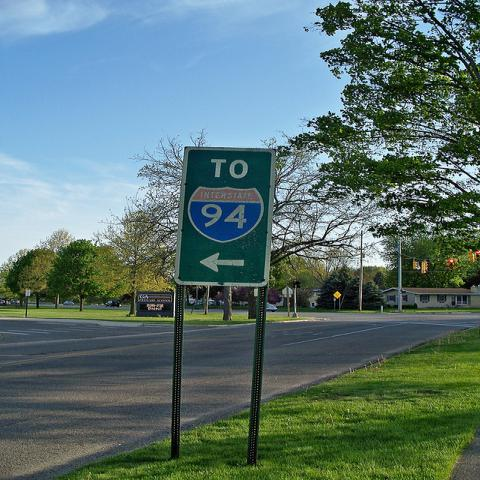car: (104, 300, 120, 308), (266, 304, 278, 313), (63, 301, 75, 306)
